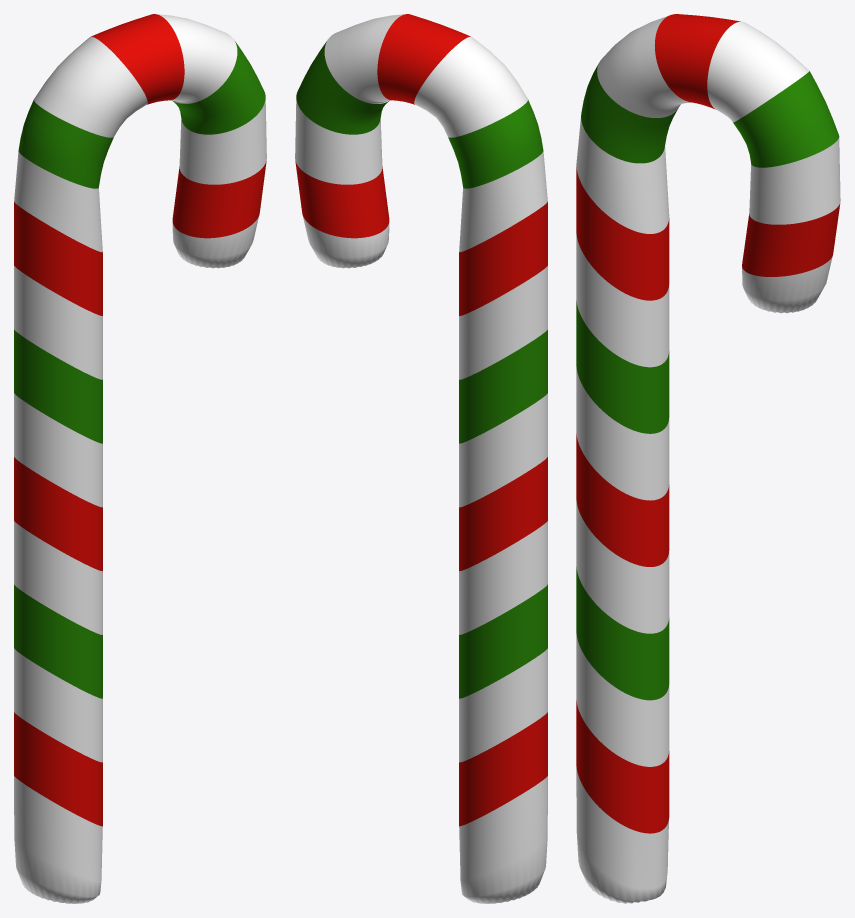
Rendered from candycane.glb.
3 renders of one model, left to right at view 1: azimuth 30°, elevation 25°; view 2: azimuth 150°, elevation 25°; view 3: azimuth 330°, elevation 25°, orthographic. The views are drawn at different scales.
Parts seen in each view (by area): view 1: Cylinder.002_0; view 2: Cylinder.002_0; view 3: Cylinder.002_0.
Part boxes in pixels (box(x1,y1,x2,y2)): Cylinder.002_0: box(14, 14, 266, 903); Cylinder.002_0: box(295, 14, 547, 903); Cylinder.002_0: box(576, 14, 840, 903).
Size of the model in its own units: 0.3498 by 1.19 by 0.1153.
